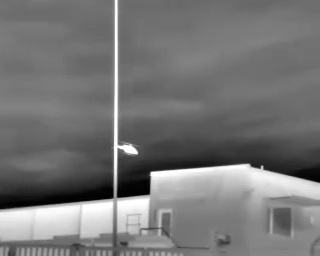HELICOPTER: (116, 137, 145, 161)
